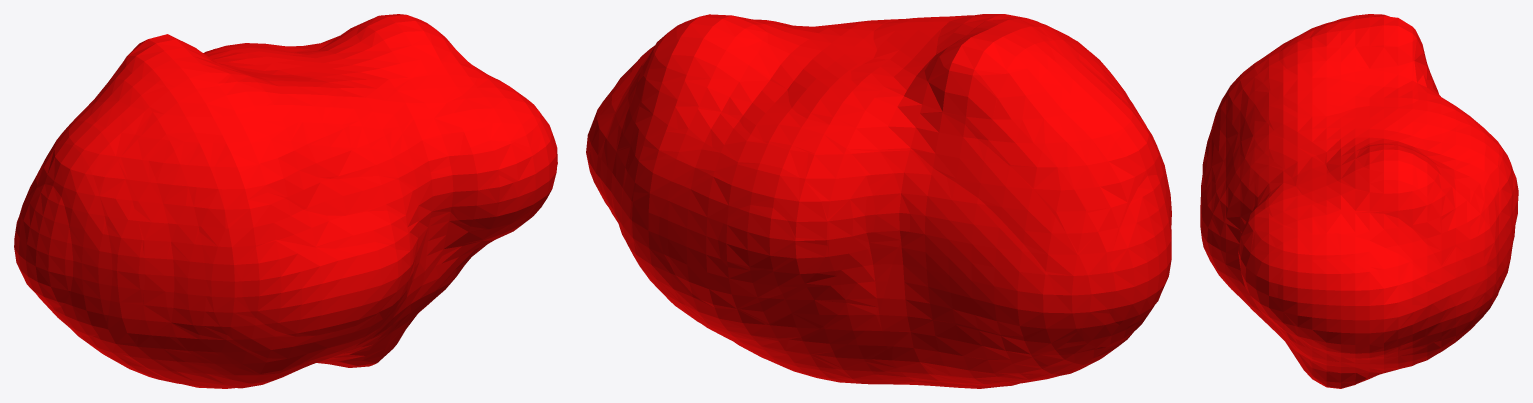
The model's file is Leucine_rich_repeat_containing_coarse.dae.
3 views of the same model, side by side, from view 1: azimuth 30°, elevation 25°; view 2: azimuth 150°, elevation 25°; view 3: azimuth 270°, elevation 25° (orthographic). The views are drawn at different scales.
Visible parts, largest first — view 1: Leucine_rich_repeat_containing; view 2: Leucine_rich_repeat_containing; view 3: Leucine_rich_repeat_containing.
Boxes of the visible parts, left/top/right/bottom form: Leucine_rich_repeat_containing: left=14, top=14, right=557, bottom=388; Leucine_rich_repeat_containing: left=586, top=14, right=1171, bottom=388; Leucine_rich_repeat_containing: left=1200, top=14, right=1518, bottom=388.
Bounding box in the file's own units: 71.92 × 47.59 × 46.25.
